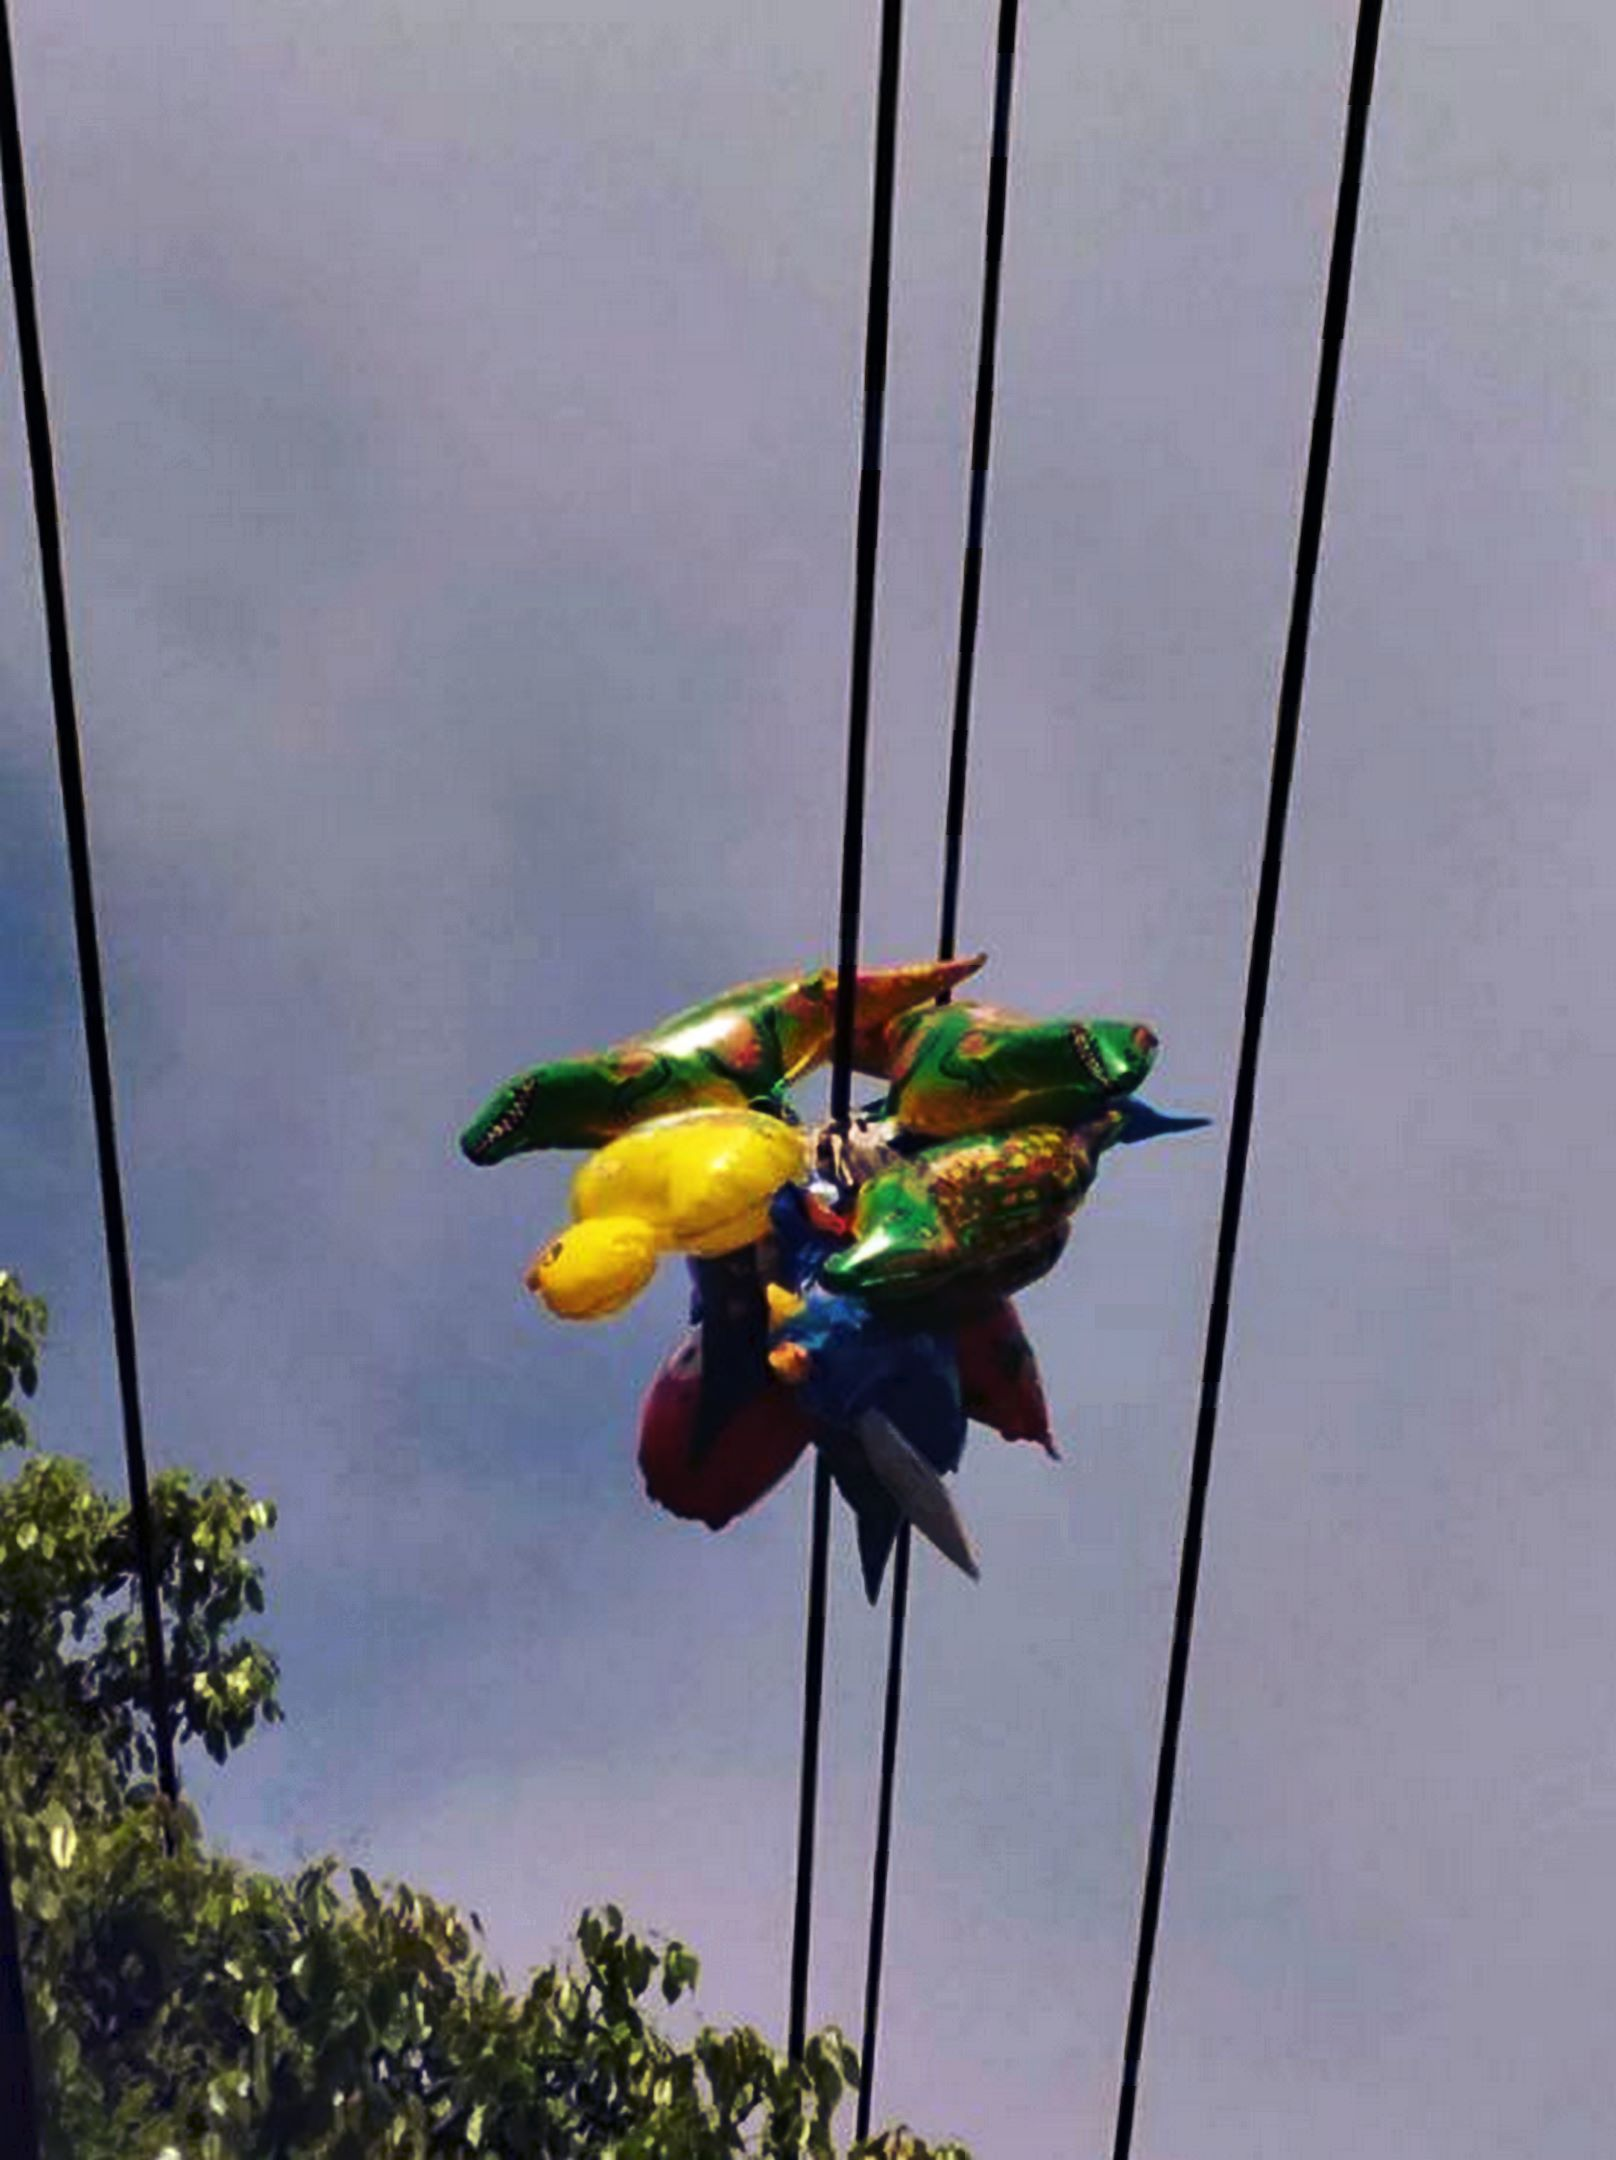wire foreign body: (414, 881, 1205, 1619)
